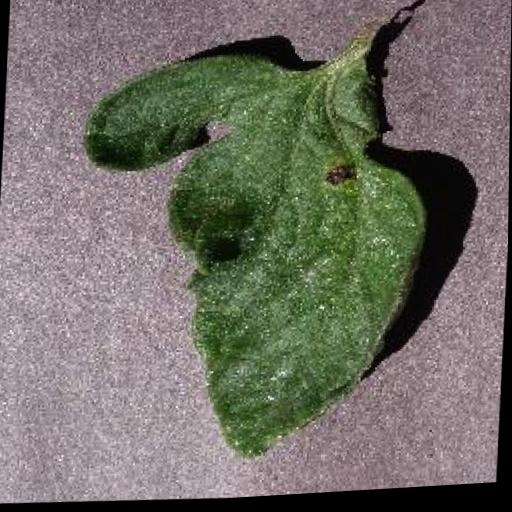Early Blight: (63, 4, 440, 479)
